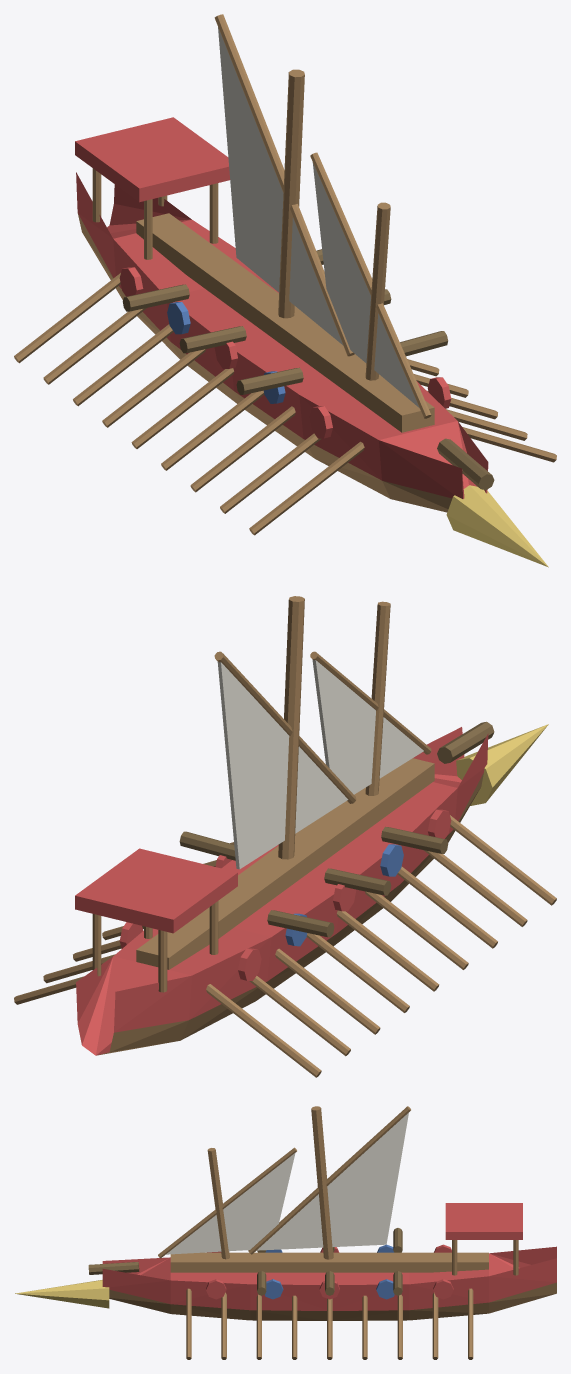
File: Galley.fbx
The picture shows the model from 3 angles, top to bottom: view 1: azimuth 30°, elevation 25°; view 2: azimuth 150°, elevation 25°; view 3: azimuth 270°, elevation 25°; orthographic projection. The views are drawn at different scales.
Parts seen in each view (by area): view 1: Galley_Body, Oar_L_0, Oar_L_8, Oar_L_2, Oar_L_4, Oar_L_3, Oar_L_6, Oar_L_1, Oar_L_5, Oar_L_7, Oar_R_0, Oar_R_1; view 2: Galley_Body, Oar_L_8, Oar_L_0, Oar_L_6, Oar_L_4, Oar_L_5, Oar_L_2, Oar_L_3, Oar_L_7, Oar_L_1, Oar_R_8; view 3: Galley_Body, Oar_R_7, Oar_R_0, Oar_R_8, Oar_R_1, Oar_R_6, Oar_R_2, Oar_R_3, Oar_R_5, Oar_R_4.
Part boxes in pixels (x1,y1,x2,y2): Galley_Body: (75,14,548,567); Oar_L_0: (249,441,364,535); Oar_L_8: (14,273,120,363); Oar_L_2: (190,406,295,492); Oar_L_4: (131,368,234,448); Oar_L_3: (161,390,264,470); Oar_L_6: (73,324,173,406); Oar_L_1: (220,433,321,513); Oar_L_5: (102,349,205,427); Oar_L_7: (43,308,146,384); Oar_R_0: (462,427,556,462); Oar_R_1: (446,409,527,440); Galley_Body: (75,596,548,1055); Oar_L_8: (206,984,321,1077); Oar_L_0: (450,815,556,905); Oar_L_6: (275,948,380,1034); Oar_L_4: (336,910,439,991); Oar_L_5: (306,933,409,1012); Oar_L_2: (397,866,497,948); Oar_L_3: (365,891,468,969); Oar_L_7: (249,976,350,1056); Oar_L_1: (423,850,527,926); Oar_R_8: (14,976,83,1004); Galley_Body: (15,1106,556,1320); Oar_R_7: (432,1292,438,1359); Oar_R_0: (186,1288,191,1359); Oar_R_8: (468,1288,473,1359); Oar_R_1: (221,1292,226,1359); Oar_R_6: (397,1294,402,1359); Oar_R_2: (256,1294,261,1359); Oar_R_3: (292,1295,297,1359); Oar_R_5: (362,1295,367,1359); Oar_R_4: (327,1298,332,1359).
Bounding box in the file's own units: 6.19 × 6.78 × 15.92.
